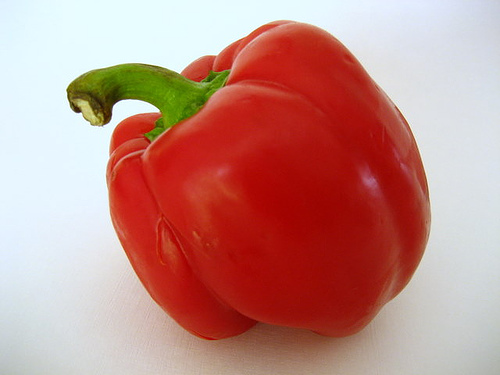capsicum: (64, 19, 433, 343)
